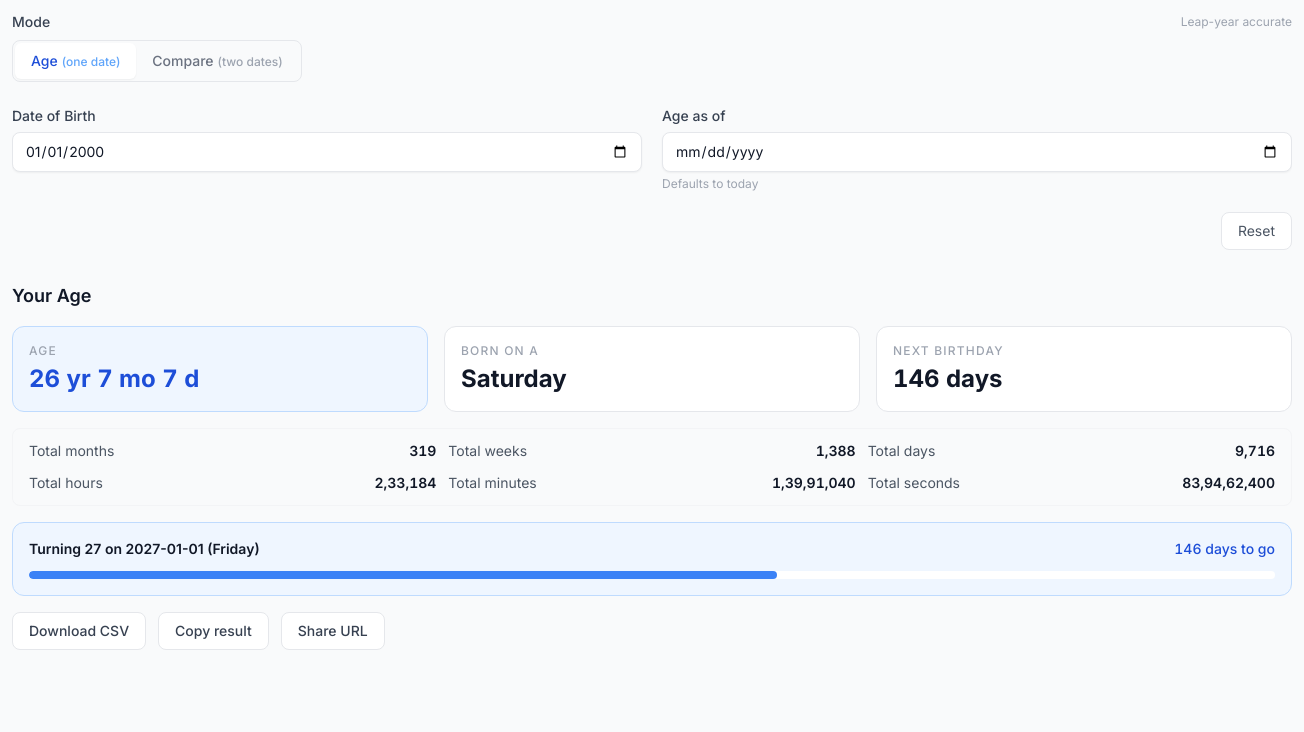
Test: AgeCalculator › rejects a future date of birth and hides the results
Type "2999-12-31" into the date field labelled "Date of Birth" at (327, 152), box top-left (12, 132), bottom-right (642, 172)
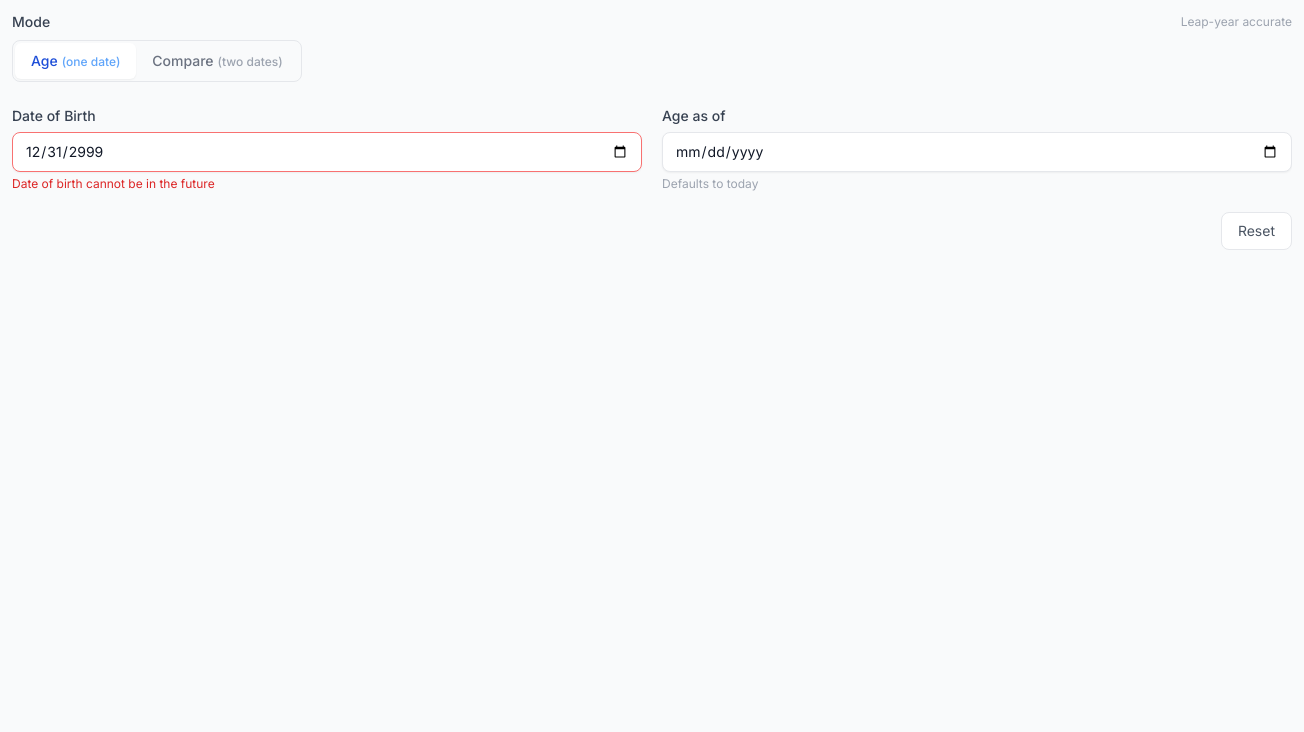
Result: the text "Date of birth cannot be in the future" is shown at top-left (12, 176), bottom-right (215, 191)
Result: the heading "Your Age" is gone
